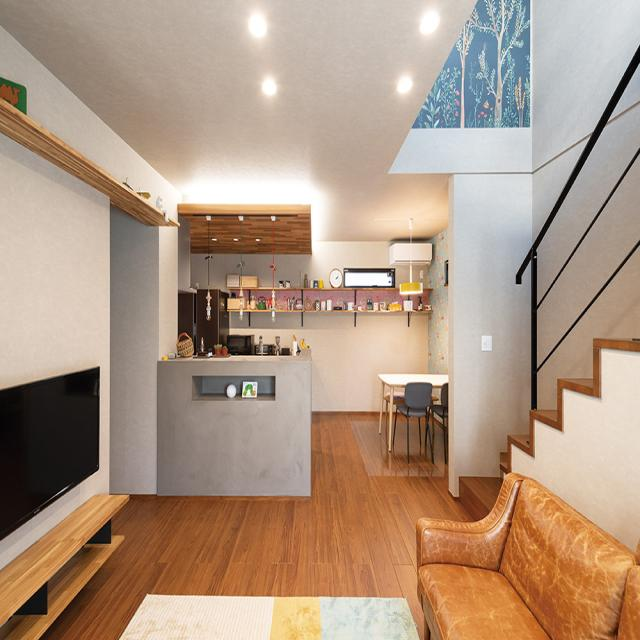vintage chair: (394, 382, 436, 470)
vintage sofa: (414, 472, 640, 640)
